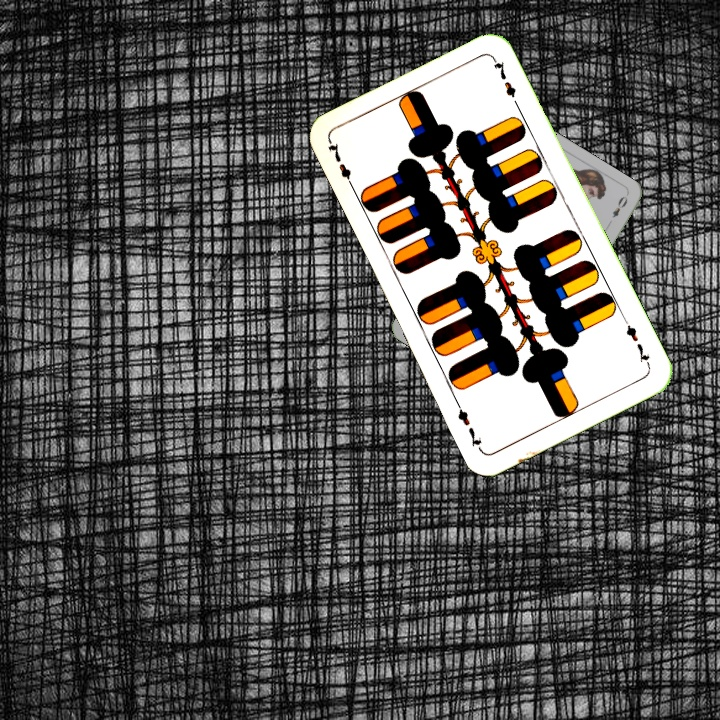E7: (619, 314, 653, 370), (324, 138, 358, 193)
